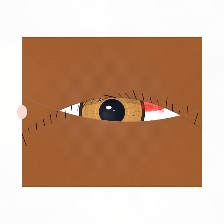hemorrhage_spot: (108, 73, 181, 131)
